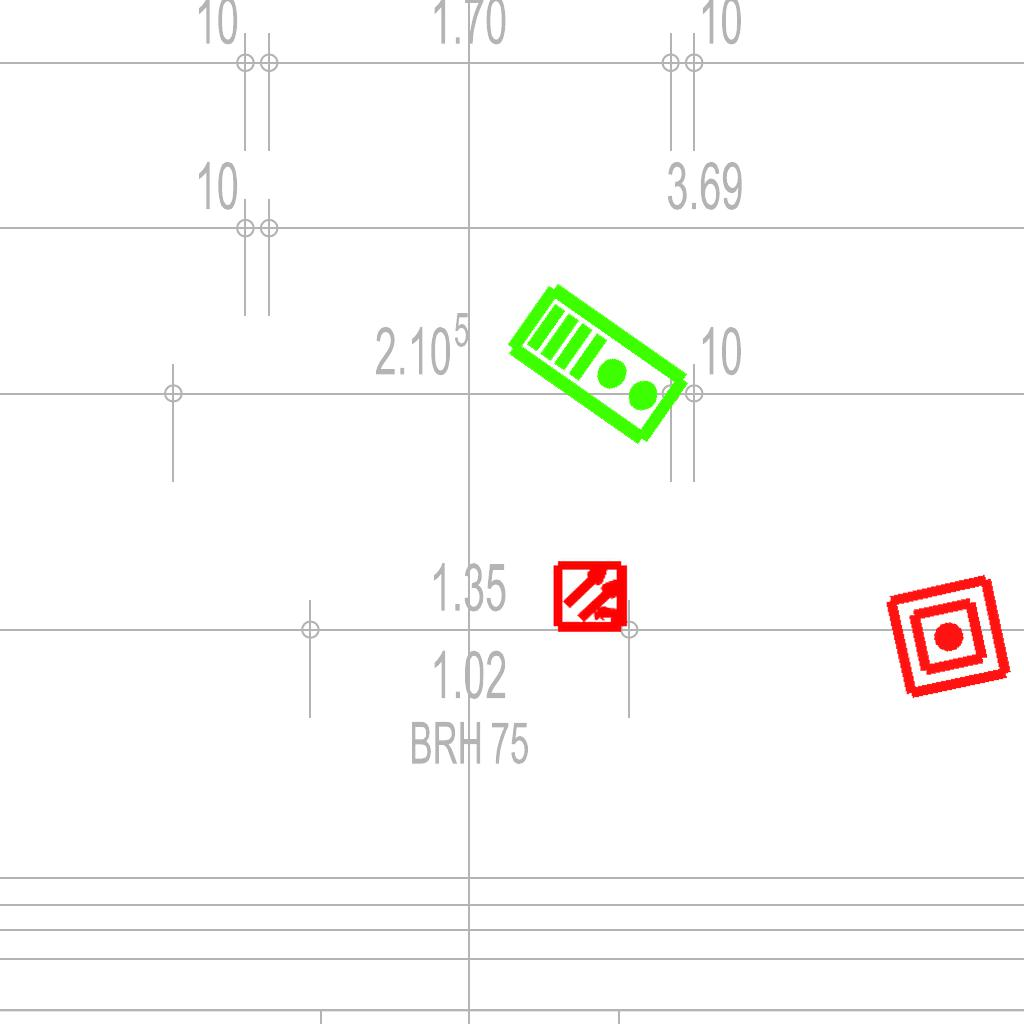Gegensprechanlage_mit_Video: (500, 273, 699, 453)
NAM-Nichtautomatischer_Melder: (881, 569, 1016, 704)
OT_Multisensormelder_(Kombination_RMO_WMD): (536, 540, 649, 653)
